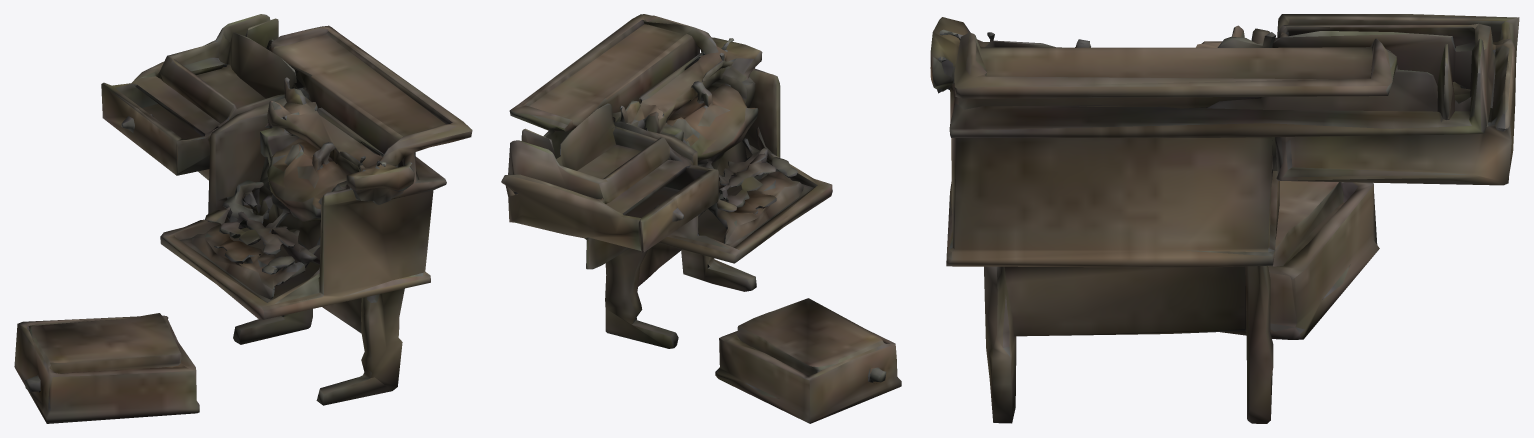
Rendered from weathered-wood-desk-v002.glb.
3 renders of one model, left to right at view 1: azimuth 30°, elevation 25°; view 2: azimuth 150°, elevation 25°; view 3: azimuth 270°, elevation 25°, orthographic. The views are drawn at different scales.
Parts seen in each view (by area): view 1: weathered-wood-desk; view 2: weathered-wood-desk; view 3: weathered-wood-desk.
Part boxes in pixels (x1=…): weathered-wood-desk: x1=14, y1=14, x2=472, y2=423; weathered-wood-desk: x1=501, y1=14, x2=901, y2=423; weathered-wood-desk: x1=930, y1=14, x2=1519, y2=423.
Bounding box in the file's own units: 1.07 × 0.7774 × 1.02.
Materials: 1 (1 with a texture image).
